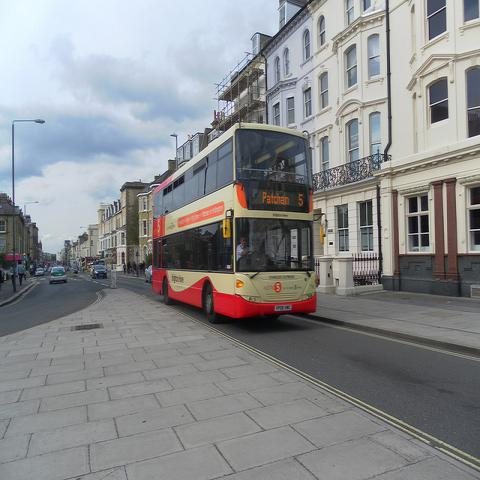bus: (150, 124, 316, 323)
car: (49, 266, 68, 284), (92, 265, 107, 279), (35, 267, 45, 277), (72, 265, 78, 274)
